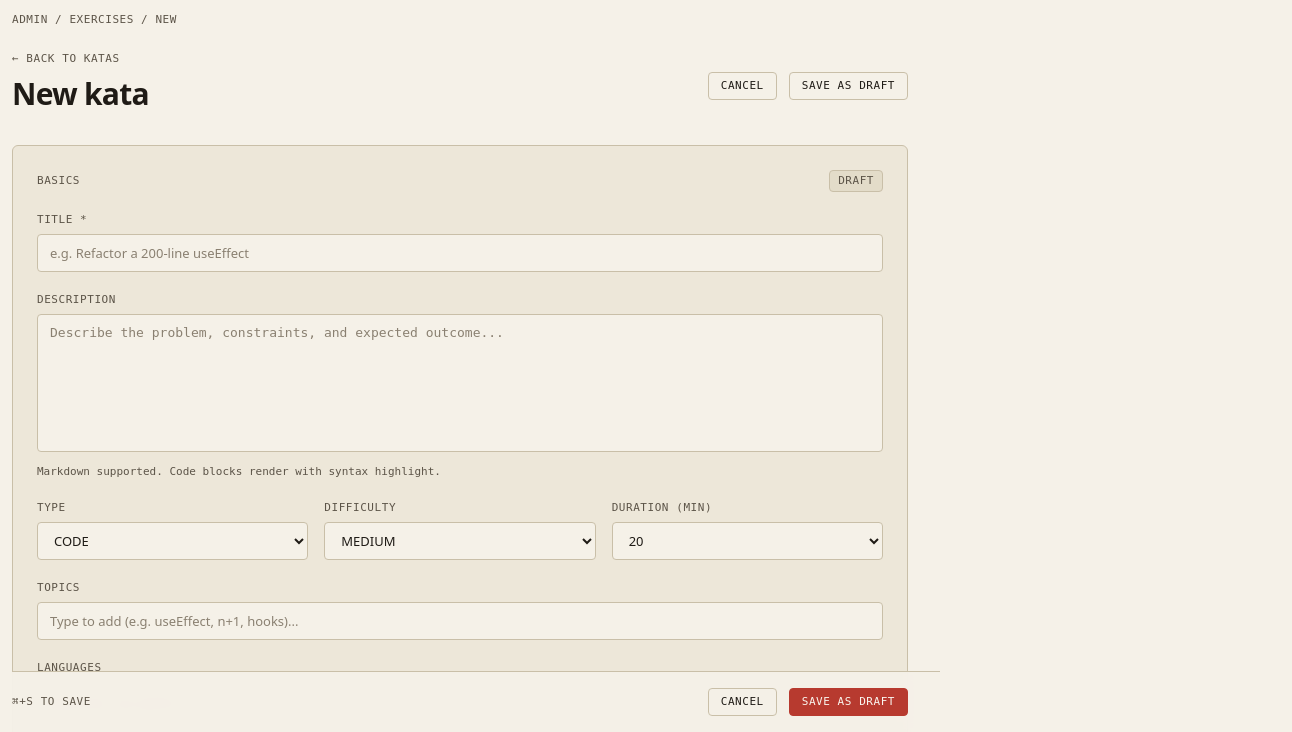
Test case: AdminNewKataPage › binds each native field to its label and announces validation as an alert
This screenshot has width=1292, height=732.
Expected: the field labelled "Title *" is shown, top-left (37, 234), bottom-right (883, 272)
Expected: the dropdown labelled "Duration (min)" is shown, top-left (612, 522), bottom-right (883, 560)
Click the 1st button "Save as draft" at point(848, 86), box top-left (789, 72), bottom-right (908, 100)
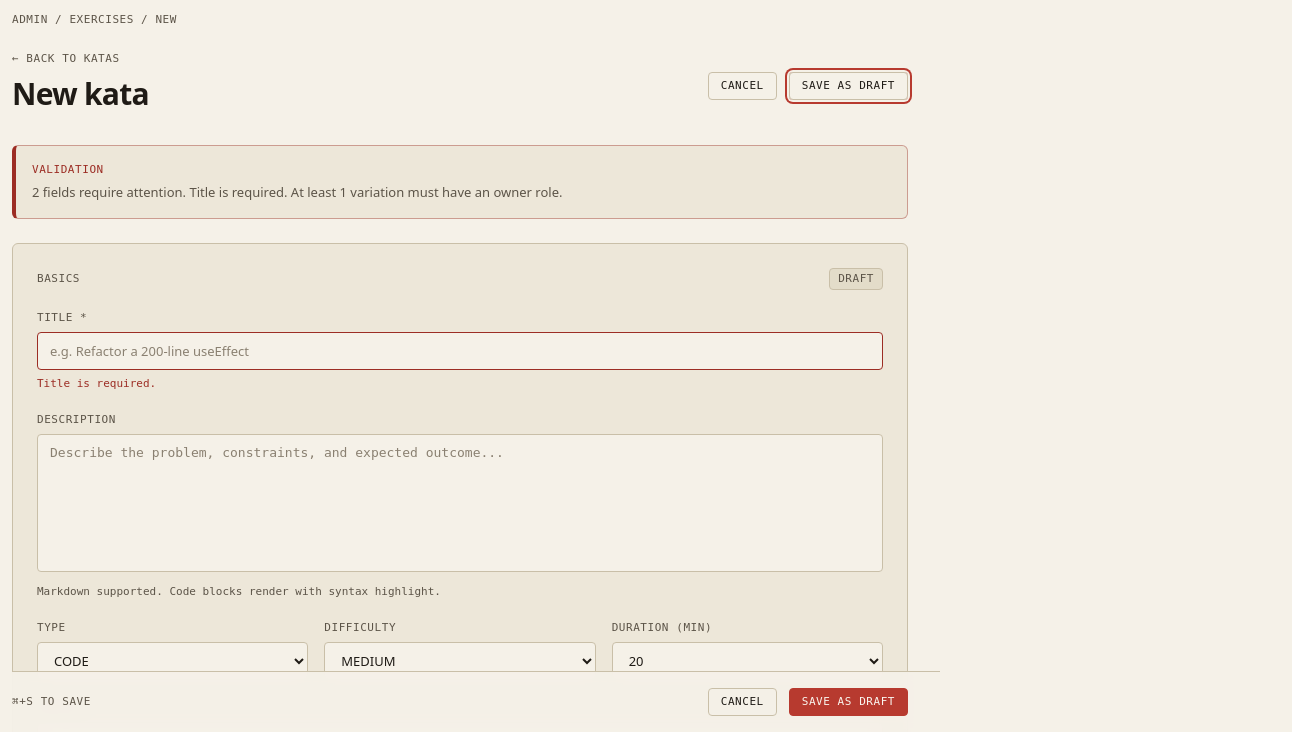
Result: the message shows "Title is required." at top-left (32, 182), bottom-right (562, 200)
